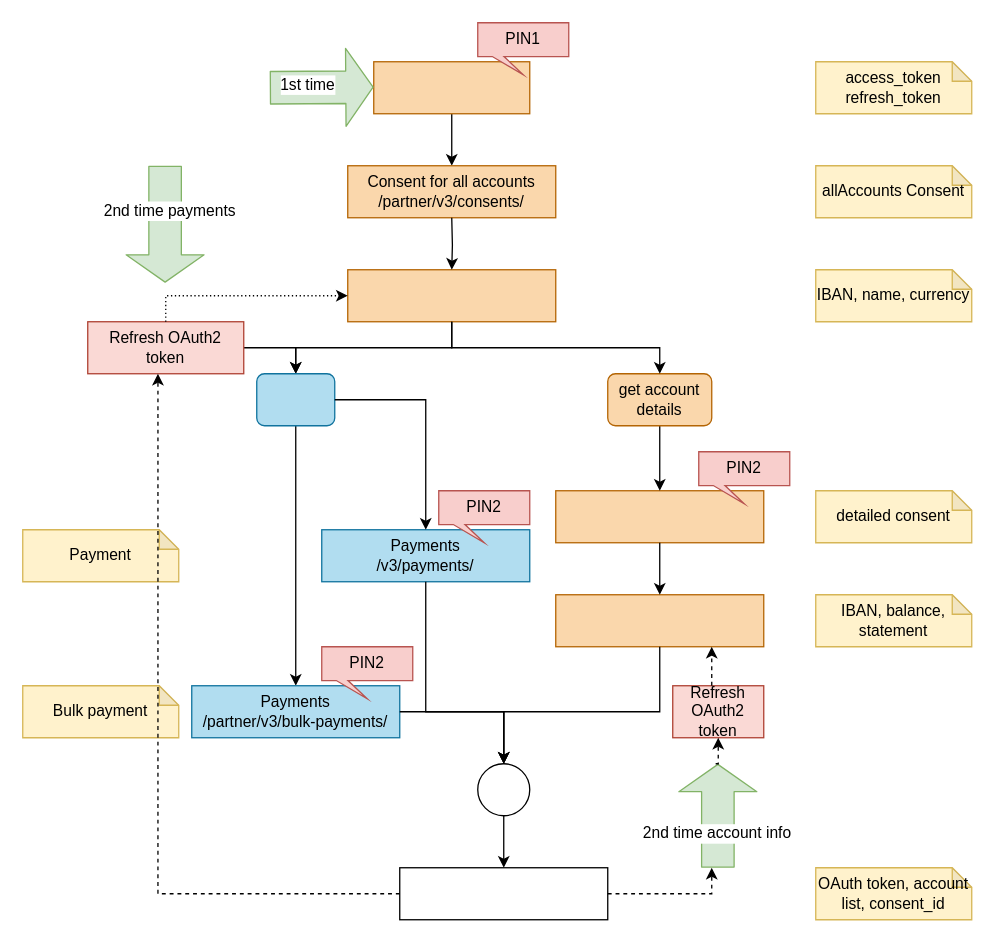
Some shapes in this 994 by 942 pixel diagram are drawn without their labels. Here are the shapes that lost their labels. From the top down, the centre of each, then its label:
At pixel 451 87: "OAuth2 login".
At pixel 451 295: "Account List /partner/v3/accounts/".
At pixel 295 399: "do payments".
At pixel 659 516: "Detailed Consent /partner/v3/consents/".
At pixel 659 620: "Account balance & statement /partner/v3/accounts/".
At pixel 503 893: "Persist session data for next login".
